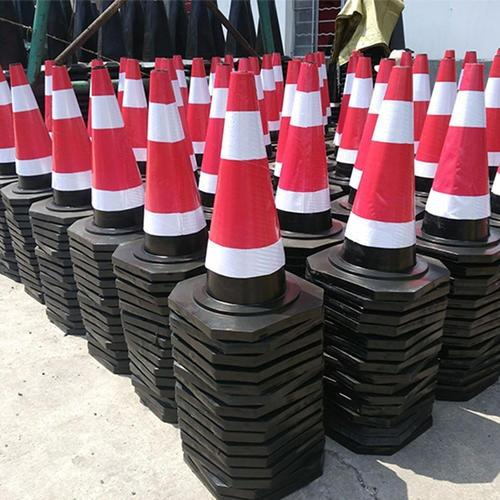cone_barrel: (190, 72, 291, 315), (330, 66, 427, 275), (133, 65, 203, 270), (419, 60, 493, 246), (274, 63, 339, 238), (335, 52, 401, 223), (81, 62, 142, 229), (36, 65, 94, 206), (415, 56, 457, 193), (6, 57, 51, 177), (332, 51, 373, 175), (195, 62, 229, 209), (118, 58, 147, 157), (182, 55, 209, 155), (484, 51, 499, 167)
